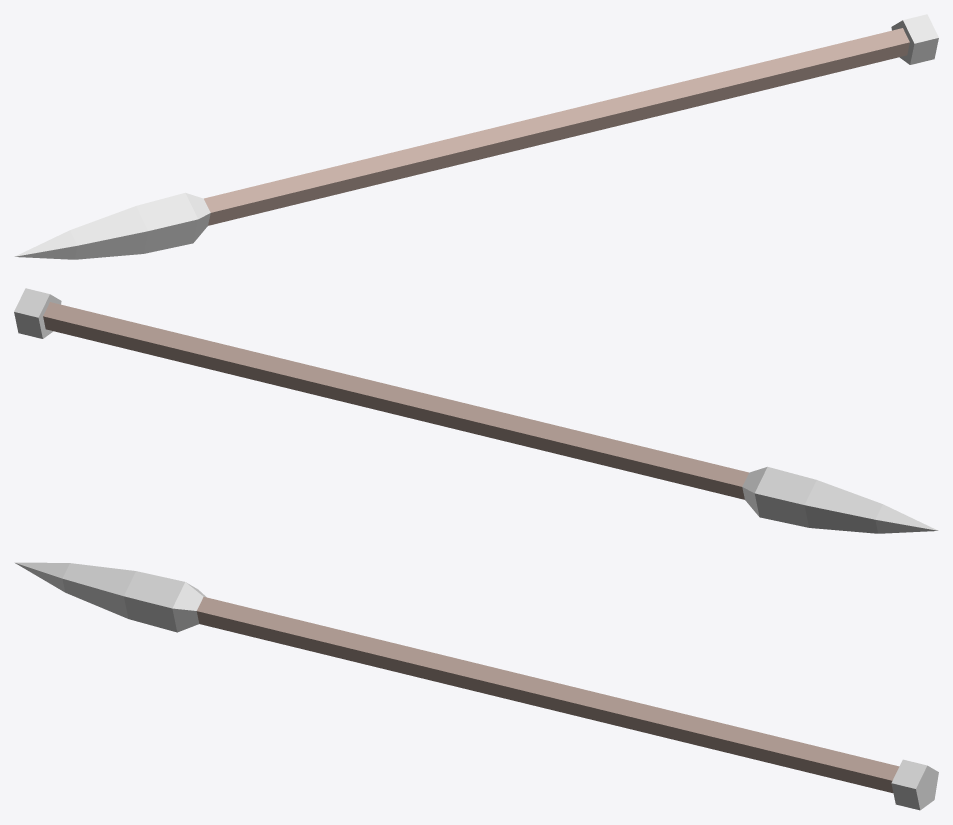
The model's file is Spear.fbx.
3 renders of one model, top to bottom at view 1: azimuth 30°, elevation 25°; view 2: azimuth 150°, elevation 25°; view 3: azimuth 330°, elevation 25°, orthographic.
Parts seen in each view (by area): view 1: Spear; view 2: Spear; view 3: Spear.
Boxes of the visible parts, x1,y1,x2,y2 form: Spear: [14, 14, 938, 259]; Spear: [14, 288, 938, 533]; Spear: [15, 562, 938, 810].
Size of the model in its own units: 1.07 by 0.0502 by 0.0528.
